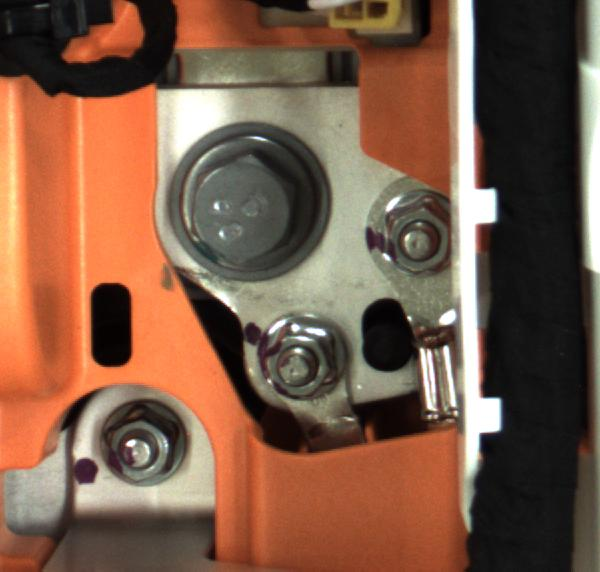nut_b: (168, 128, 336, 277)
screw_s: (246, 309, 354, 414), (369, 191, 469, 280), (94, 401, 191, 491)
